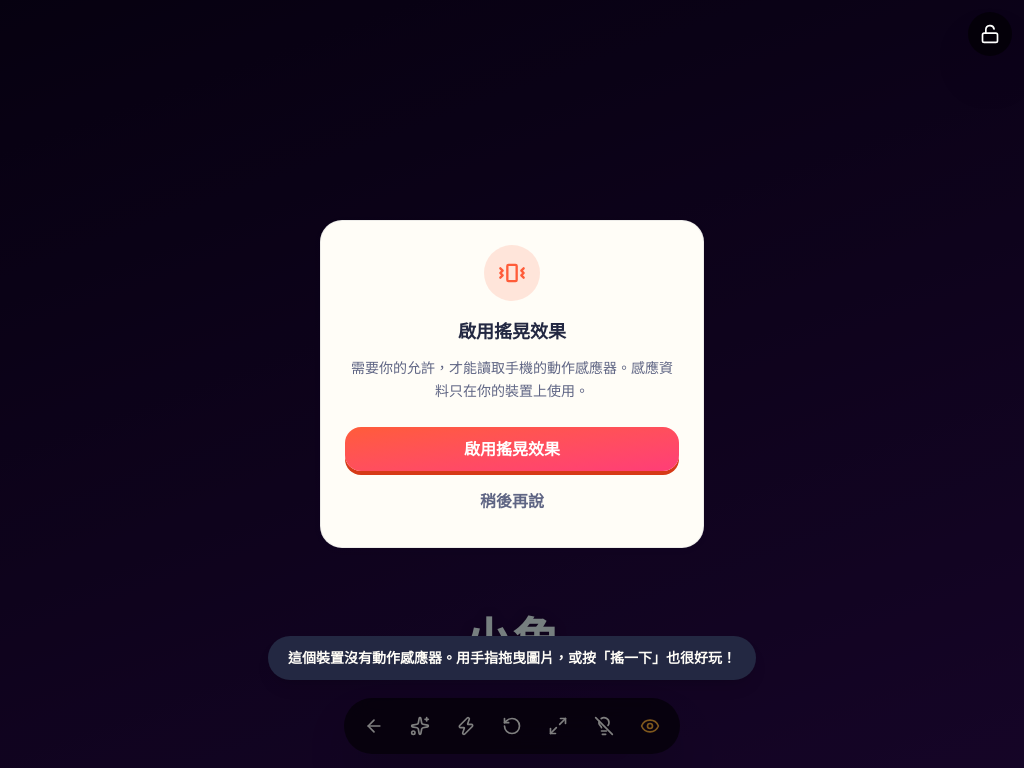
Test: 展示頁 › iOS 權限流程：顯示「啟用搖晃效果」，允許後開始監聽
Click the button "啟用搖晃效果": click(512, 449) x1=345 y1=427 x2=679 y2=471
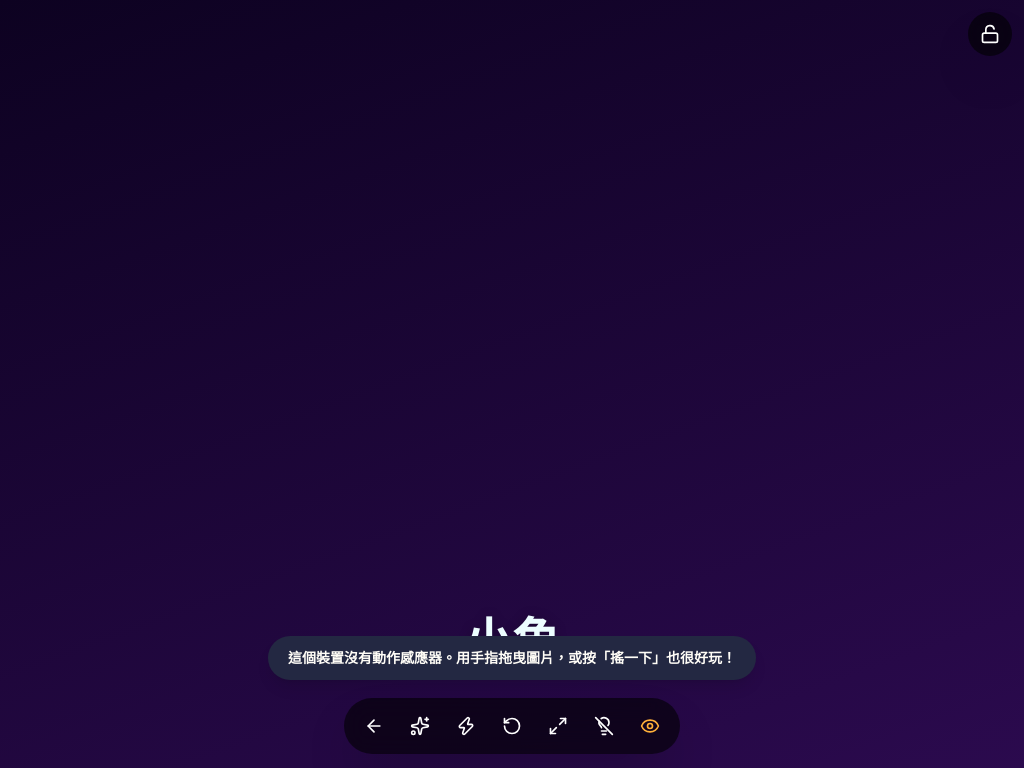
Check: the button named "搖一下" is shown, box x1=444 y1=704 x2=488 y2=748
Check: the dialog is gone
